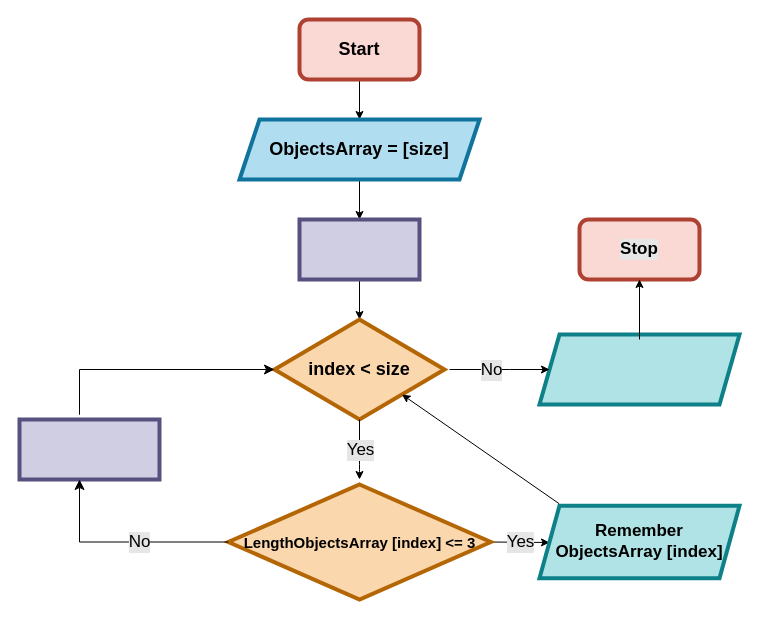
Image size: 758x618. Some labels were removed from this diagram. The shapes that lost their labels are listed below. From the top down, each one's centre as x and y in pixels, then its label:
At point (359, 249): "index = 0".
At point (639, 369): "Print ObjectsArray [index]".
At point (89, 449): "index = index + 1".
